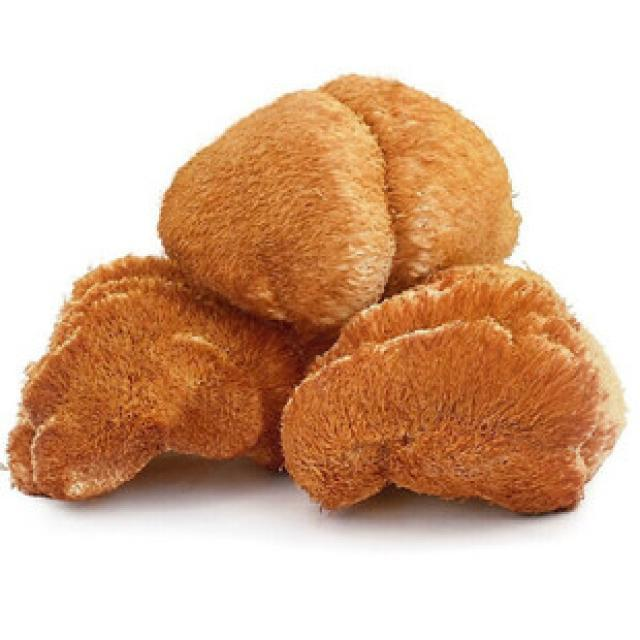Hericium erinaceus: (158, 72, 522, 327), (285, 268, 622, 512), (9, 252, 288, 498)
